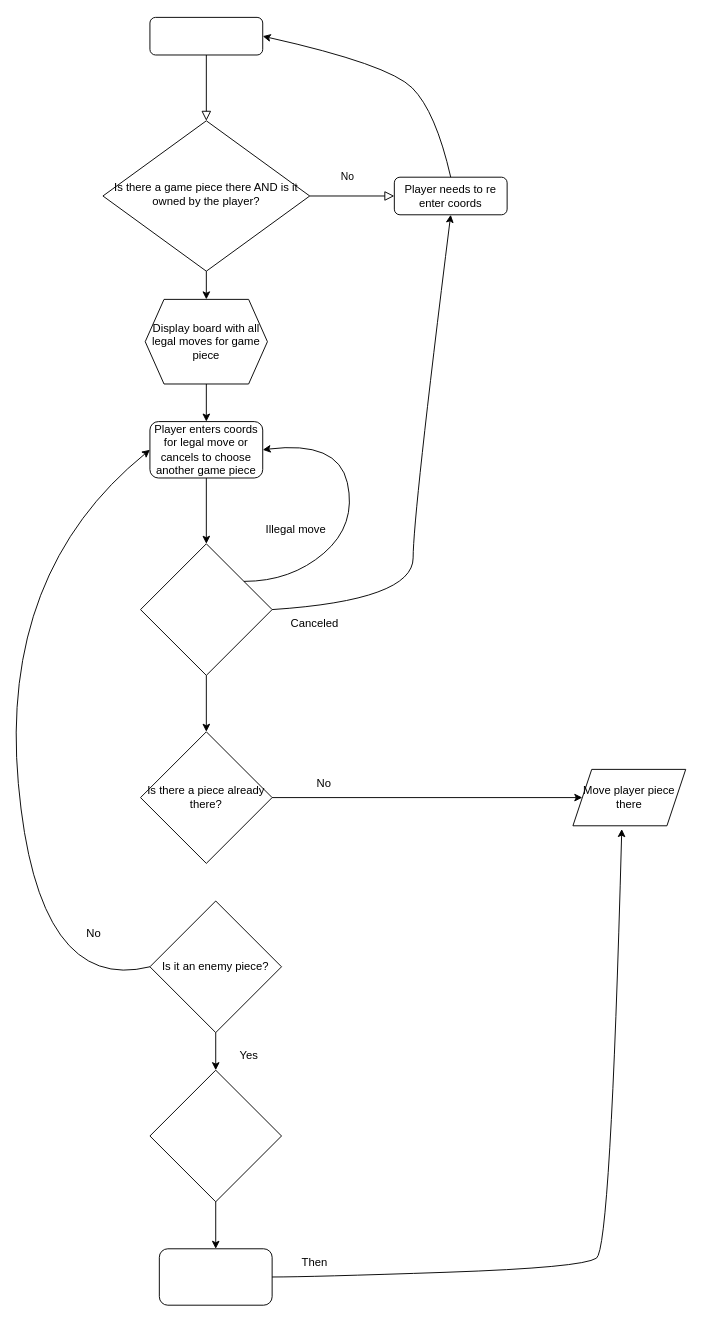
The diagram is 703 pixels wide and 1322 high, and some of its shapes have lost their labels. Each missing label, with the box of its shape:
Is it a legal move? Did player try to cancel?: (140, 543, 272, 675)
Is it the enemy king?: (149, 1069, 282, 1202)
Player enters coords for a game piece to move: (149, 16, 263, 55)
Remove the enemy piece: (158, 1248, 272, 1305)
